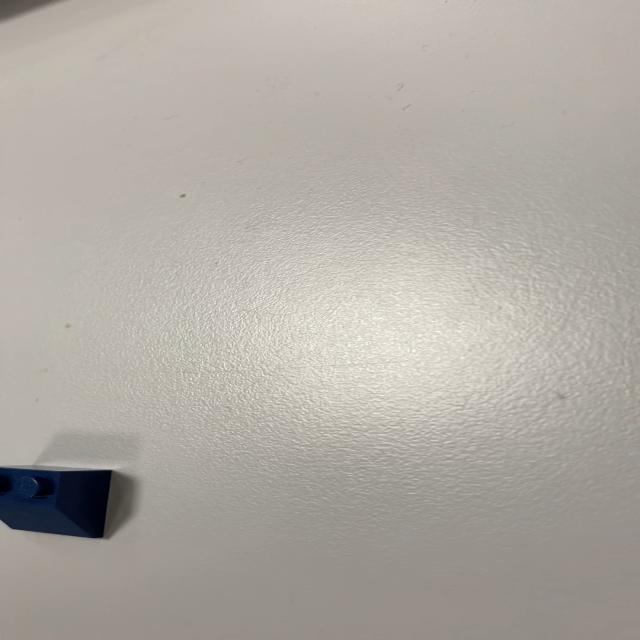P2x2x1: (0, 464, 113, 539)
